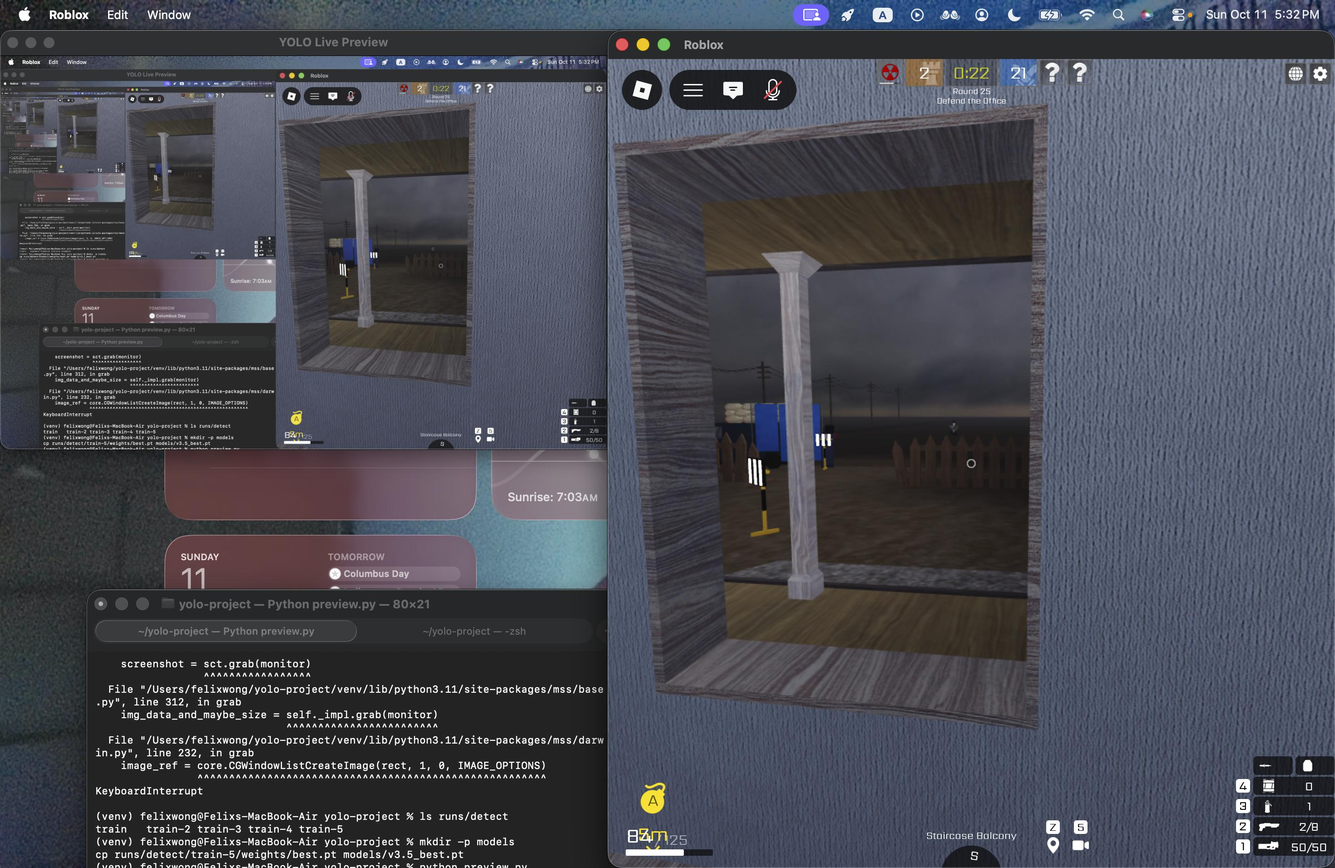enemy: (821, 425, 839, 469), (949, 421, 959, 436)
